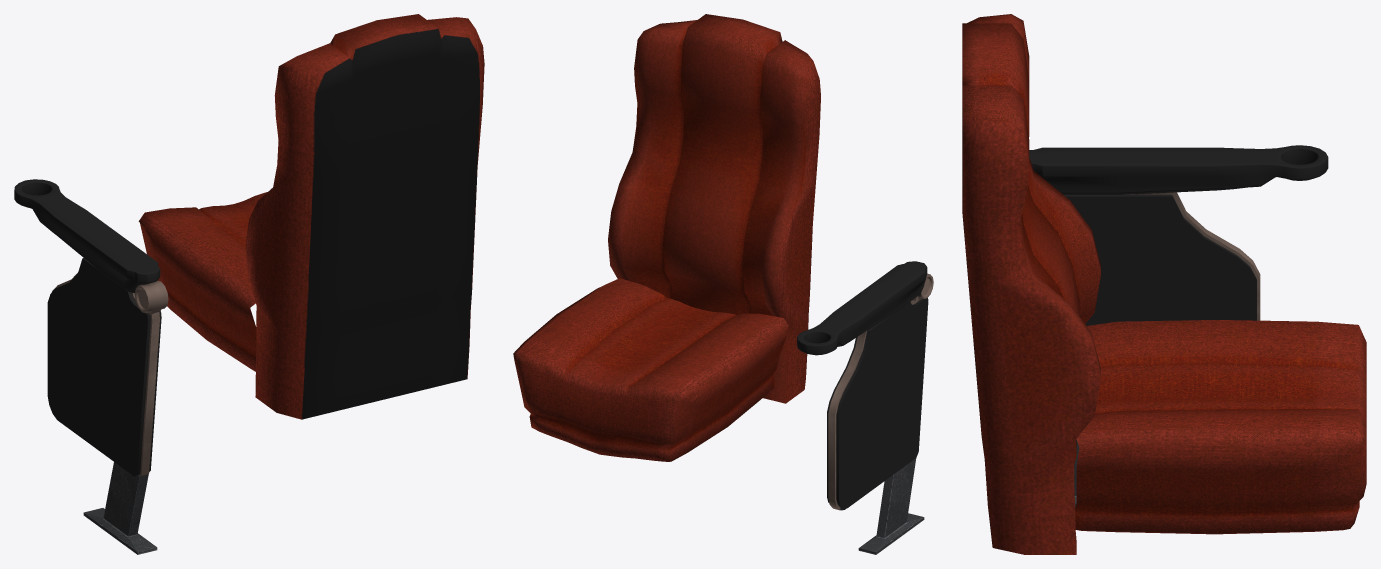
File: seat.glb
3 renders of one model, left to right at view 1: azimuth 30°, elevation 25°; view 2: azimuth 150°, elevation 25°; view 3: azimuth 270°, elevation 25°, orthographic. The views are drawn at different scales.
Parts seen in each view (by area): view 1: Seat, ArmRest; view 2: Seat, ArmRest; view 3: Seat, ArmRest.
Boxes of the visible parts, bbox=[...] form: Seat: bbox=[138, 14, 484, 419]; ArmRest: bbox=[14, 179, 168, 554]; Seat: bbox=[513, 14, 820, 461]; ArmRest: bbox=[797, 261, 933, 554]; Seat: bbox=[962, 14, 1366, 554]; ArmRest: bbox=[1029, 145, 1328, 506].
Bounding box in the file's own units: 0.8905 × 1.19 × 0.7393.
1 material, 1 textured.
